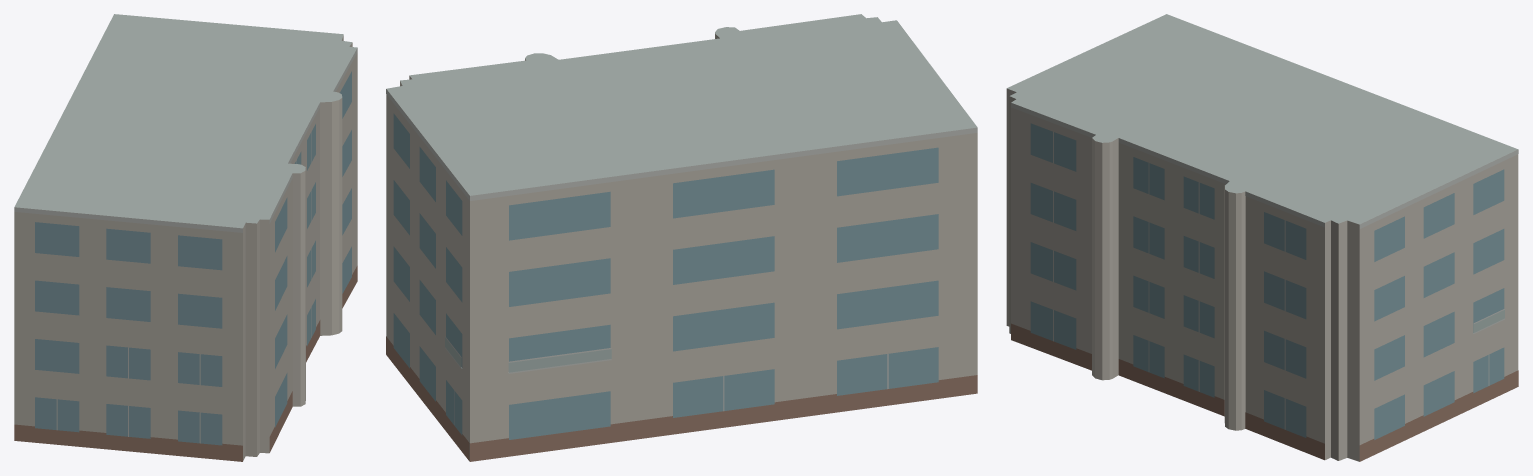
File: survey-upis-32543139.glb
3 renders of one model, left to right at view 1: azimuth 30°, elevation 25°; view 2: azimuth 150°, elevation 25°; view 3: azimuth 270°, elevation 25°, orthographic. The views are drawn at different scales.
Visible parts, largest first — view 1: survey-upis-32543139.tmp; view 2: survey-upis-32543139.tmp; view 3: survey-upis-32543139.tmp.
Part boxes in pixels (x1,y1,x2,y2): survey-upis-32543139.tmp: (14, 14, 357, 461); survey-upis-32543139.tmp: (386, 14, 977, 461); survey-upis-32543139.tmp: (1006, 14, 1518, 461).
Size of the model in its own units: 23.59 by 12.4 by 24.24.
